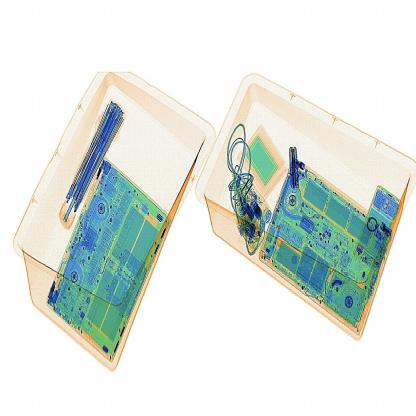scissors: (286, 140, 302, 189)
